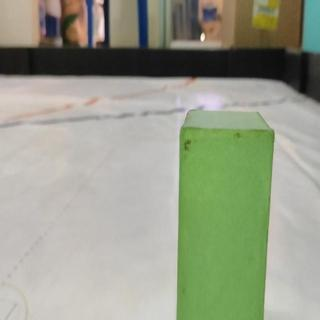greenbox: (177, 106, 276, 320)
